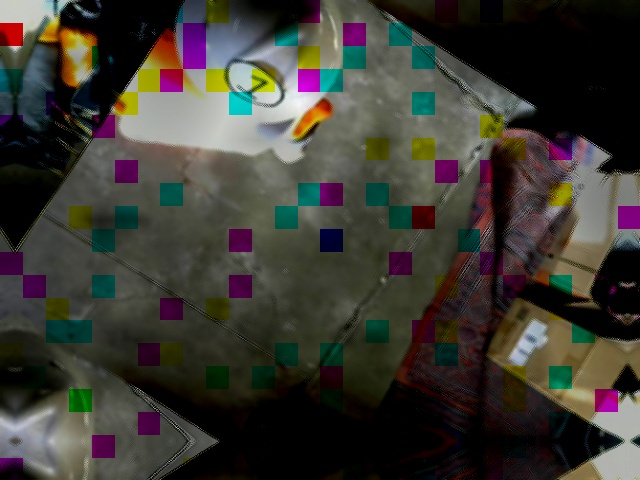one: (216, 52, 289, 115)
